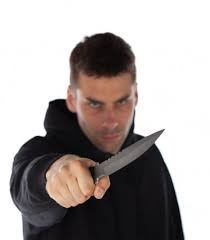knife: (75, 127, 168, 199)
